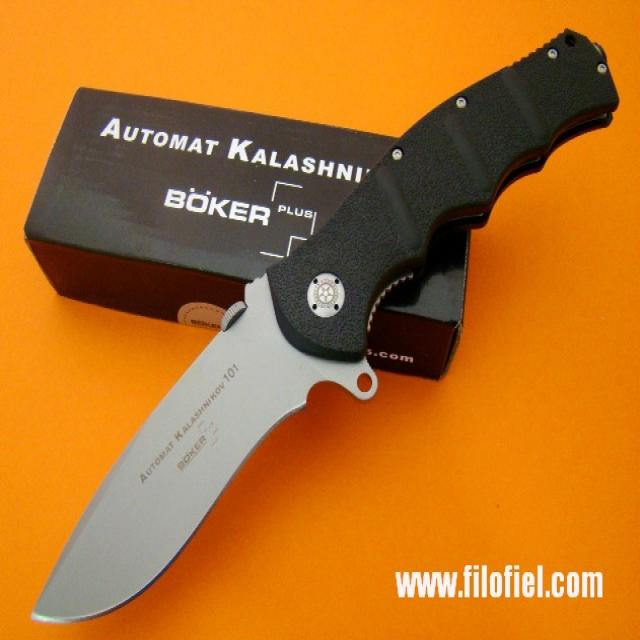knife: (33, 20, 626, 631)
